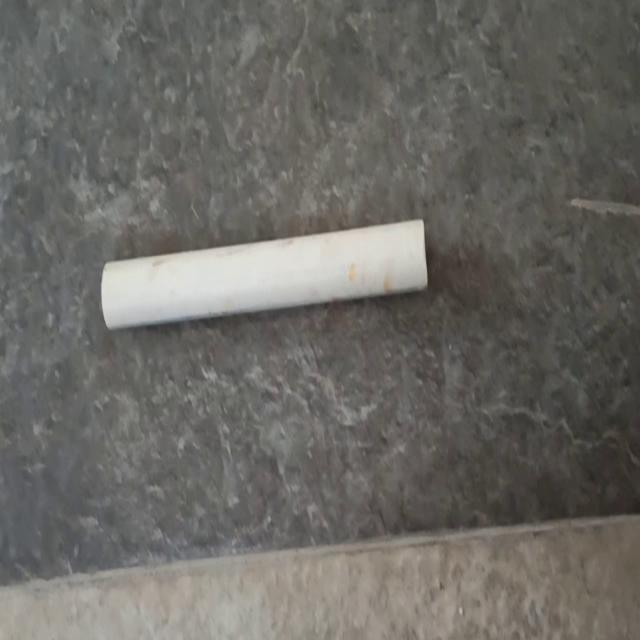Cube: (100, 216, 429, 332)
